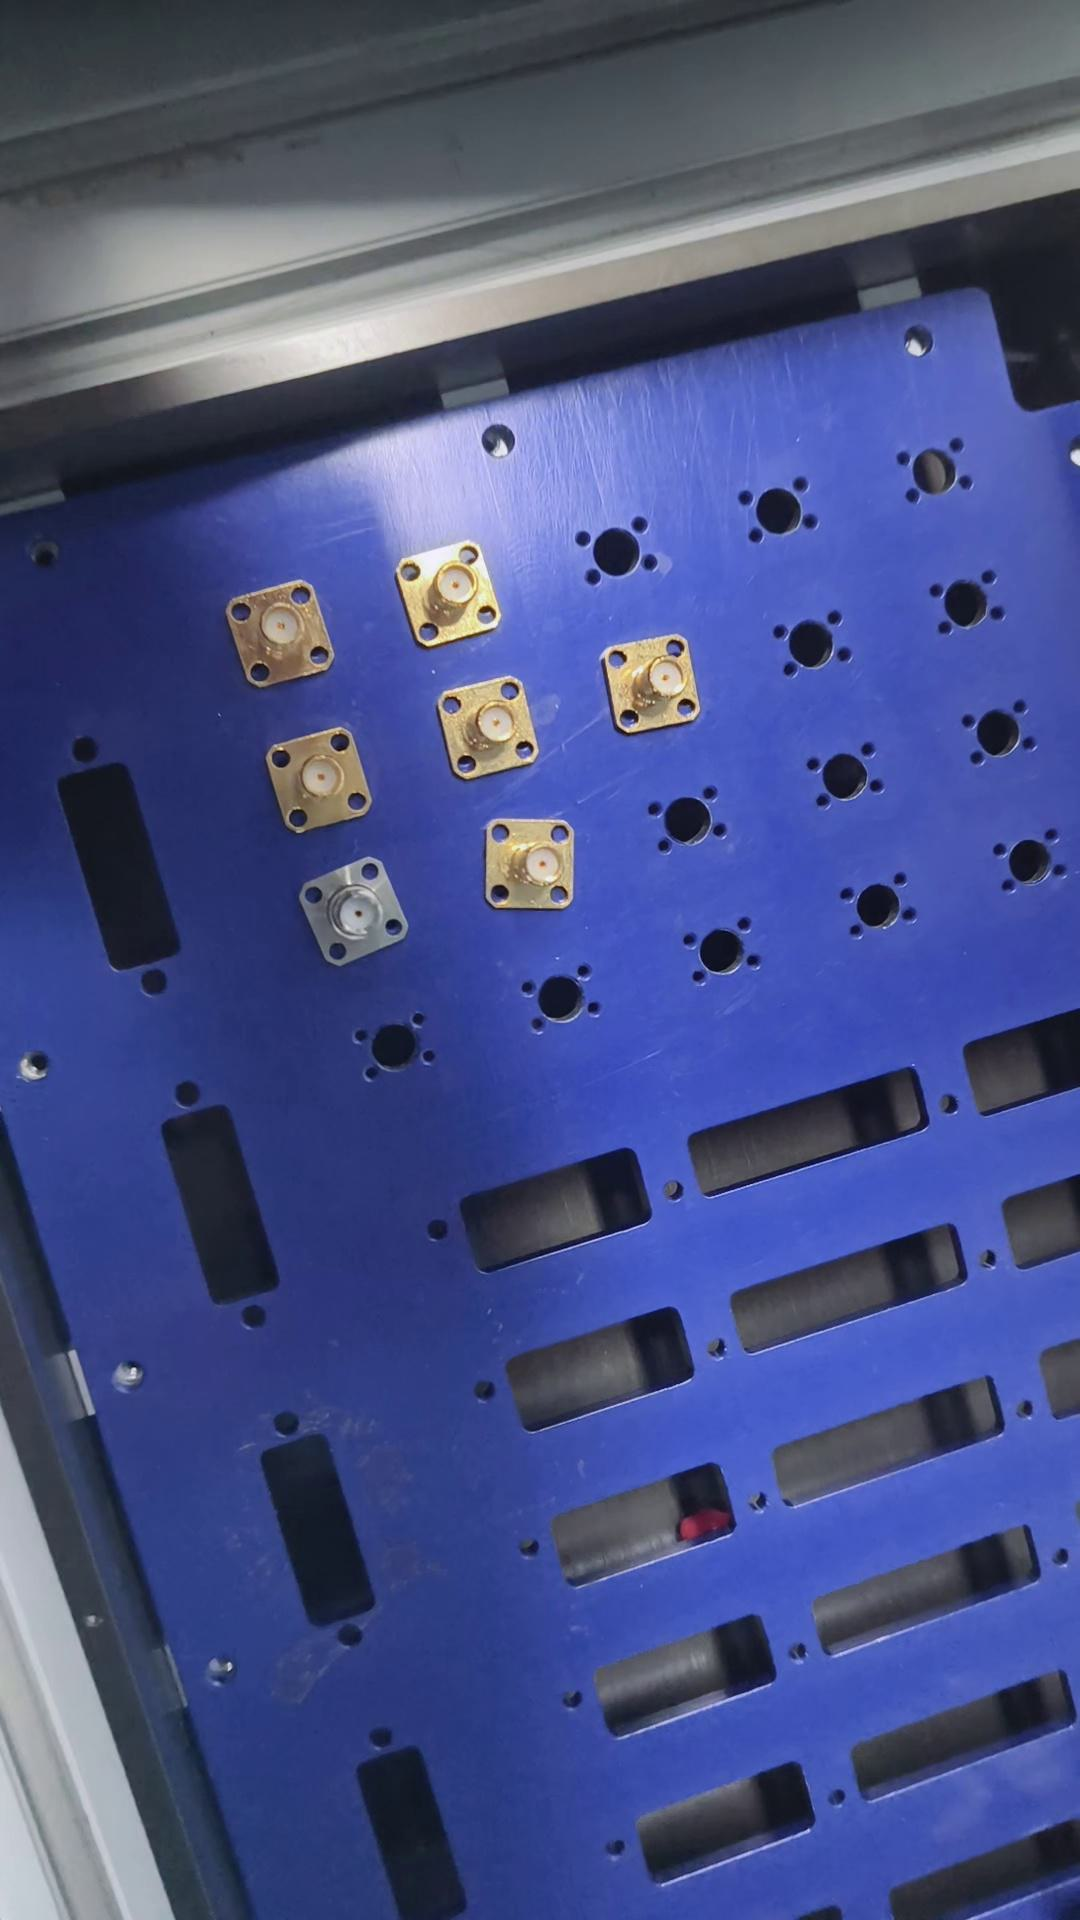SMA: (222, 582, 343, 690), (299, 858, 419, 964), (397, 538, 513, 644), (269, 728, 381, 832), (477, 814, 587, 918), (435, 680, 549, 778), (605, 632, 705, 740)
